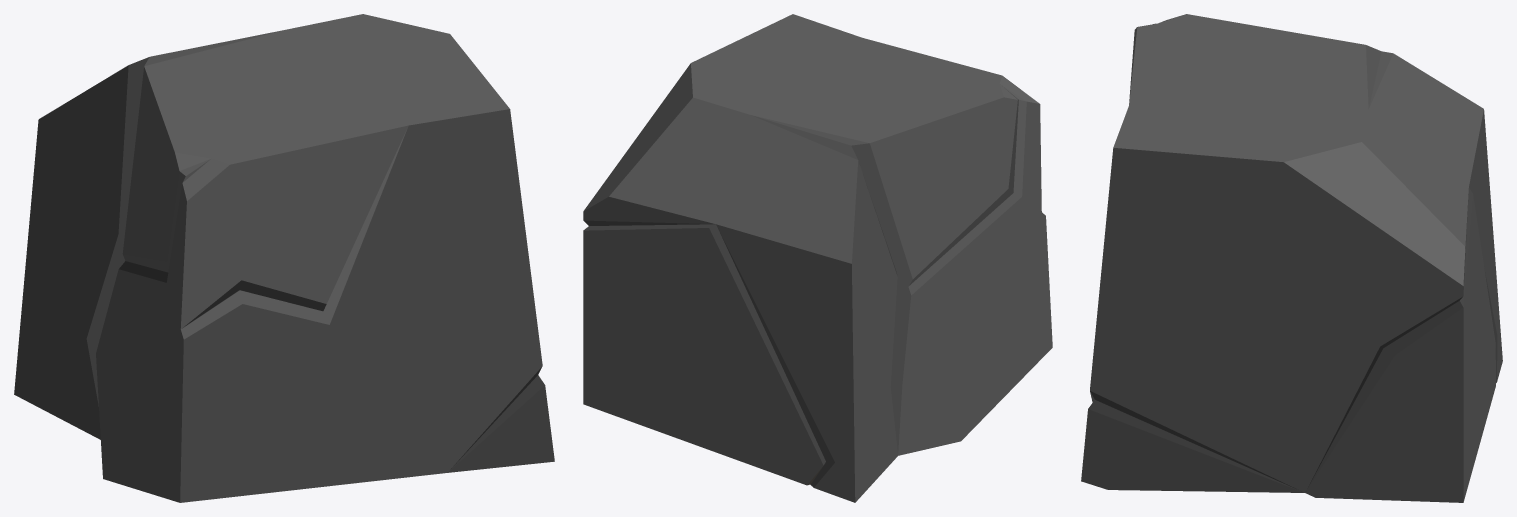
Rendered from stone rock.fbx.
The picture shows the model from 3 angles, left to right: view 1: azimuth 30°, elevation 25°; view 2: azimuth 150°, elevation 25°; view 3: azimuth 270°, elevation 25°; orthographic projection. The views are drawn at different scales.
Parts seen in each view (by area): view 1: Cube; view 2: Cube; view 3: Cube.
Part boxes in pixels (x1,y1,x2,y2): Cube: [14, 14, 554, 502]; Cube: [583, 14, 1052, 502]; Cube: [1081, 14, 1502, 502].
Size of the model in its own units: 110 by 100 by 112.
